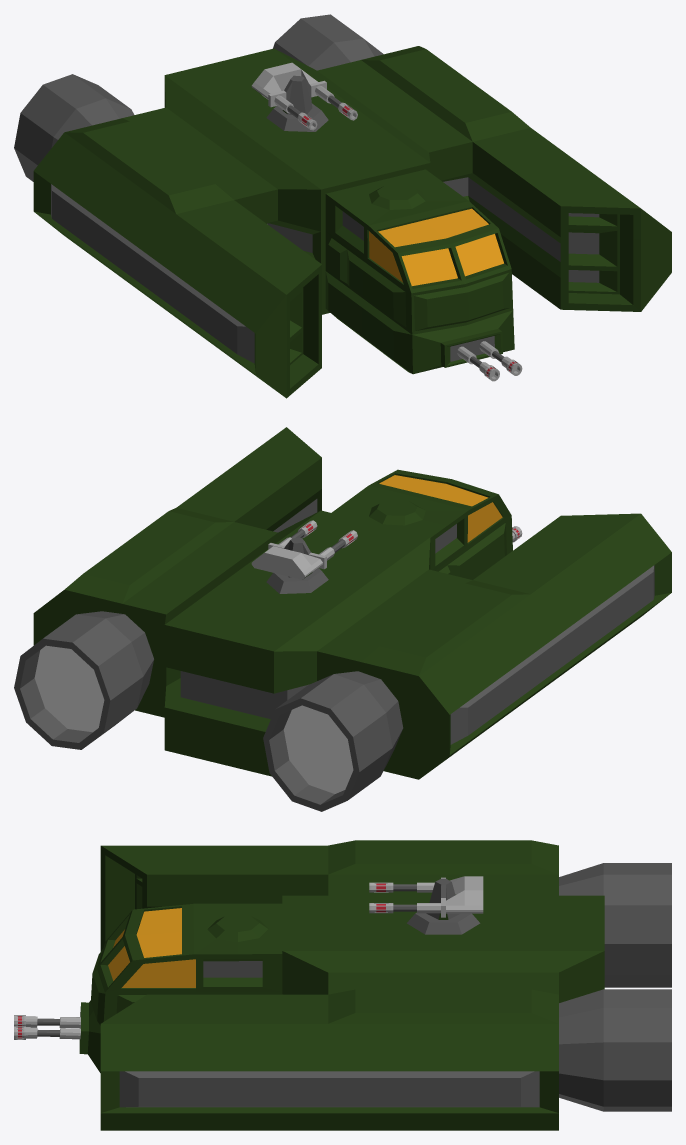
Rendered from spaceship_4.fbx.
3 renders of one model, top to bottom at view 1: azimuth 30°, elevation 25°; view 2: azimuth 150°, elevation 25°; view 3: azimuth 270°, elevation 25°, orthographic. The views are drawn at different scales.
Visible parts, largest first — view 1: spaceship_4; view 2: spaceship_4; view 3: spaceship_4.
Boxes of the visible parts, x1,y1,x2,y2 form: spaceship_4: (14,14,671,398); spaceship_4: (14,427,671,811); spaceship_4: (14,840,671,1130).
Size of the model in its own units: 0.5585 by 0.2133 by 0.7418.
